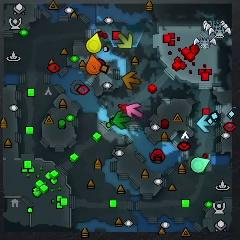p2: (191, 157, 210, 173)
p4: (86, 32, 102, 53)
p5: (85, 54, 101, 75)
x1: (126, 103, 142, 119)
x2: (116, 32, 134, 50)
x3: (197, 115, 217, 133)
x4: (113, 111, 132, 129)
x5: (122, 71, 141, 89)
